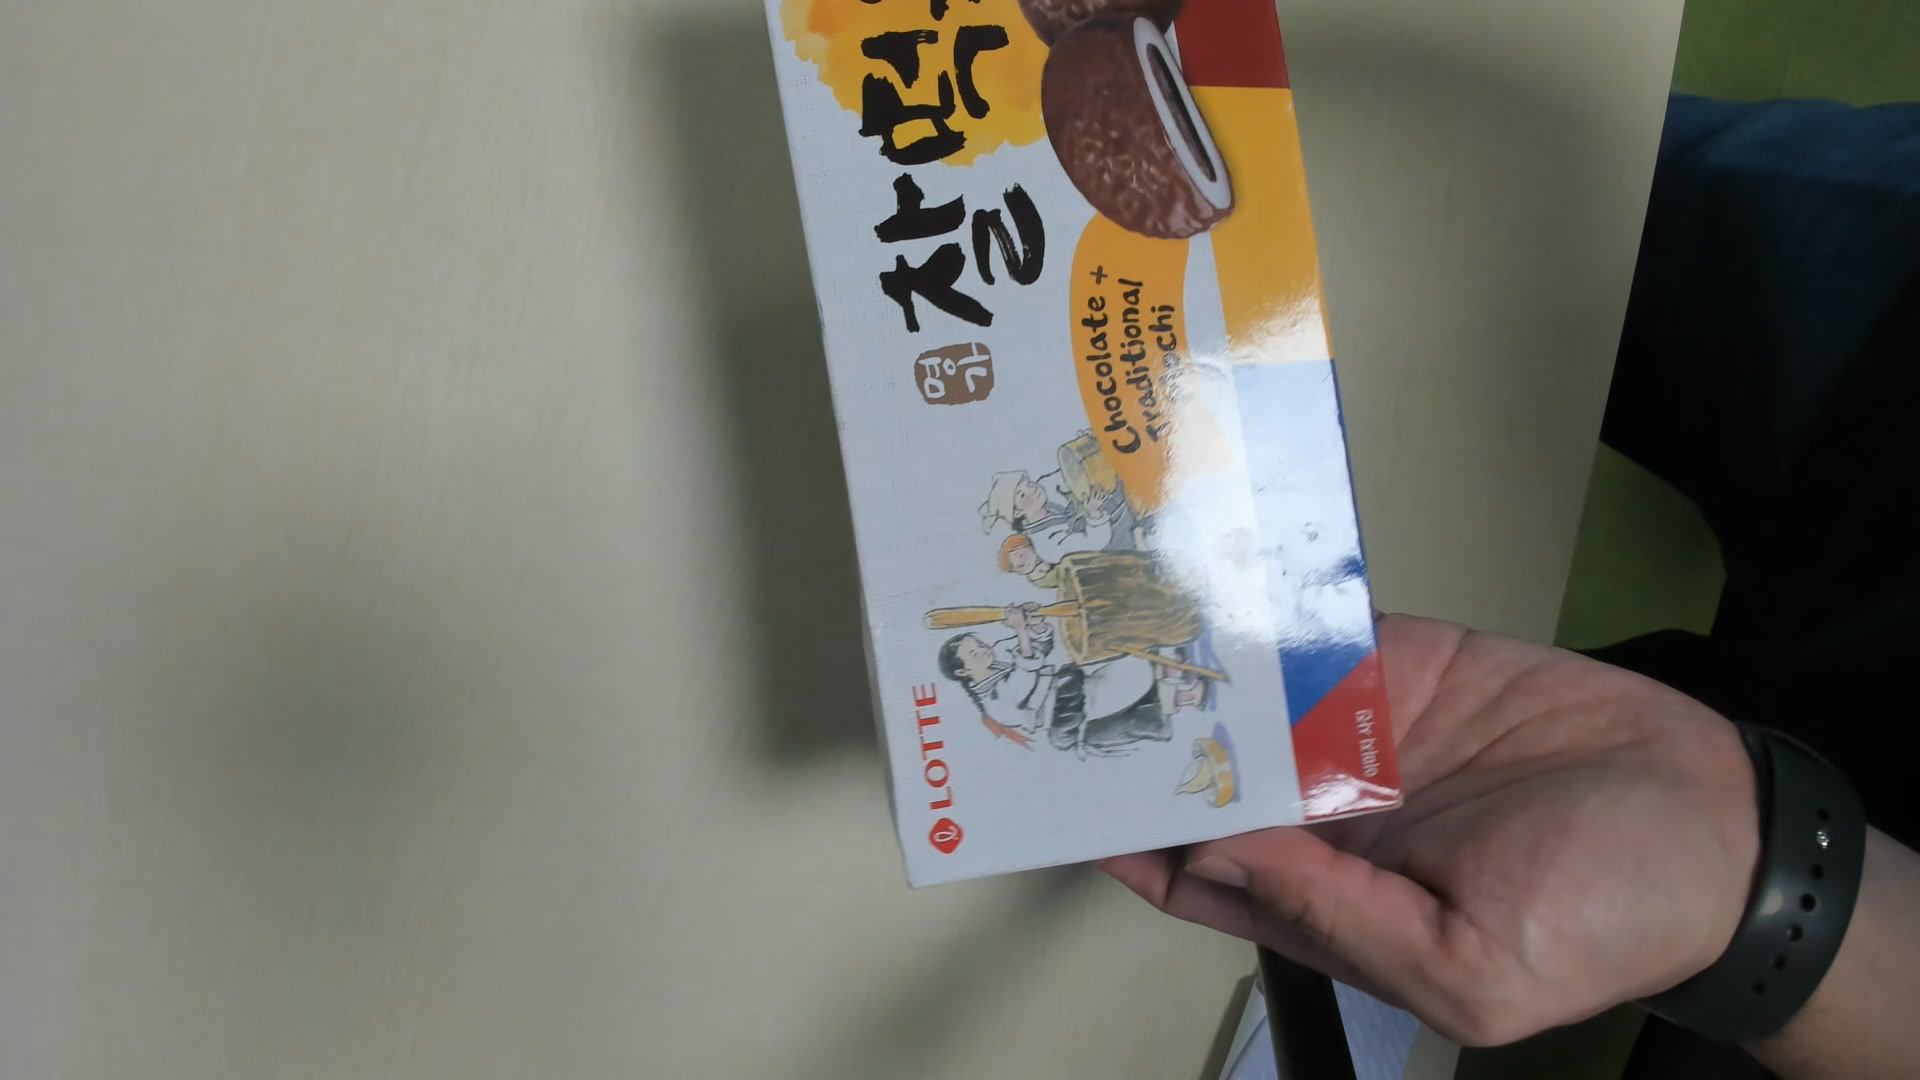SweetsChocolatesOthers_200-299g_NonHalal_Nonhealthy: (766, 1, 1406, 894)
